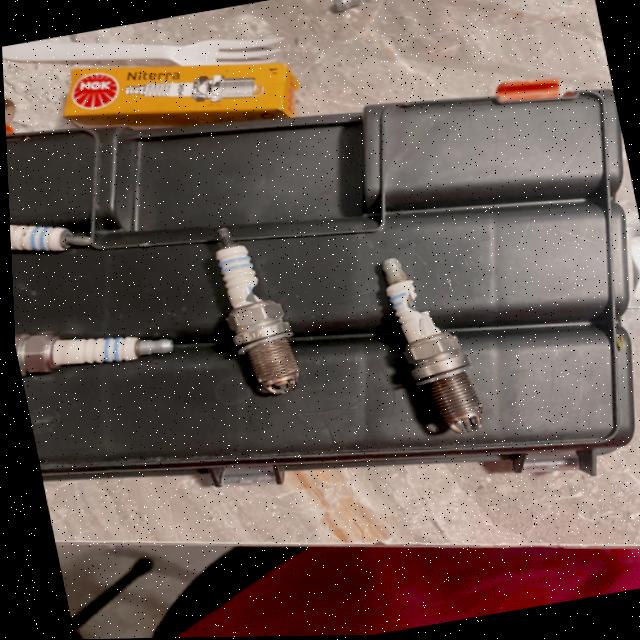damaged_spark-plug: (365, 230, 496, 447), (193, 208, 316, 405)
